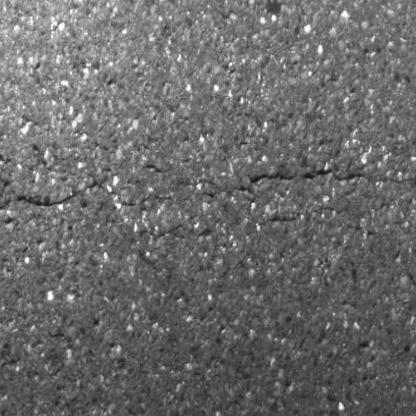Cracks: (12, 166, 416, 211), (0, 169, 17, 192), (0, 138, 8, 166)
